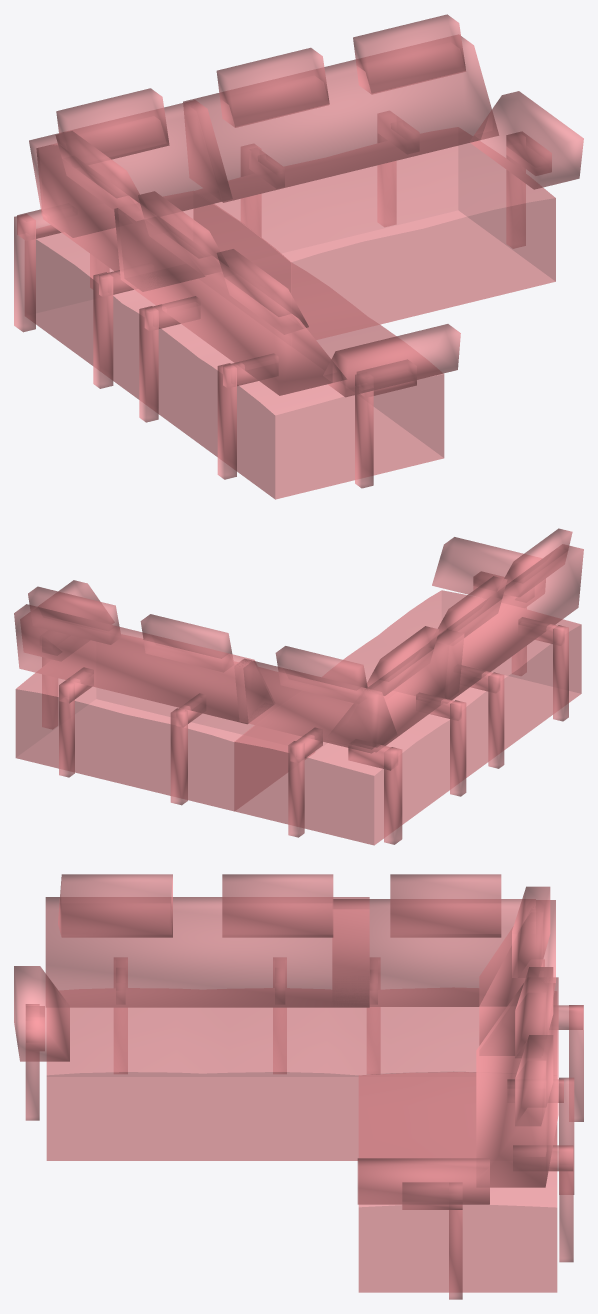
Rendered from SofaC_01_collision.DAE.
3 renders of one model, top to bottom at view 1: azimuth 30°, elevation 25°; view 2: azimuth 150°, elevation 25°; view 3: azimuth 270°, elevation 25°, orthographic. The views are drawn at different scales.
Parts seen in each view (by area): view 1: SofaC_01_collision; view 2: SofaC_01_collision; view 3: SofaC_01_collision.
Part boxes in pixels (x1,y1,x2,y2): SofaC_01_collision: (14,14,583,499); SofaC_01_collision: (14,528,583,845); SofaC_01_collision: (14,874,583,1299).
Bounding box in the file's own units: 243 × 246 × 97.23.
